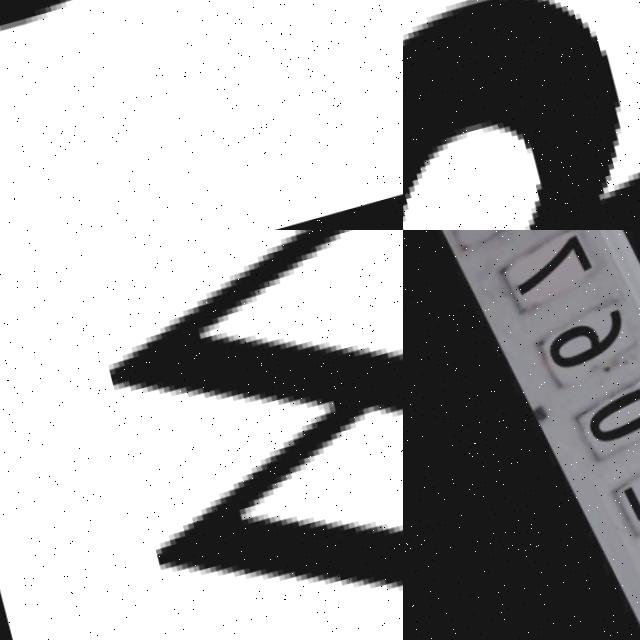0: (573, 370, 640, 467)
2: (612, 445, 640, 541)
6: (534, 299, 640, 390)
7: (0, 0, 403, 104), (500, 230, 603, 317)
B: (403, 0, 640, 230)
W: (56, 230, 403, 640)
